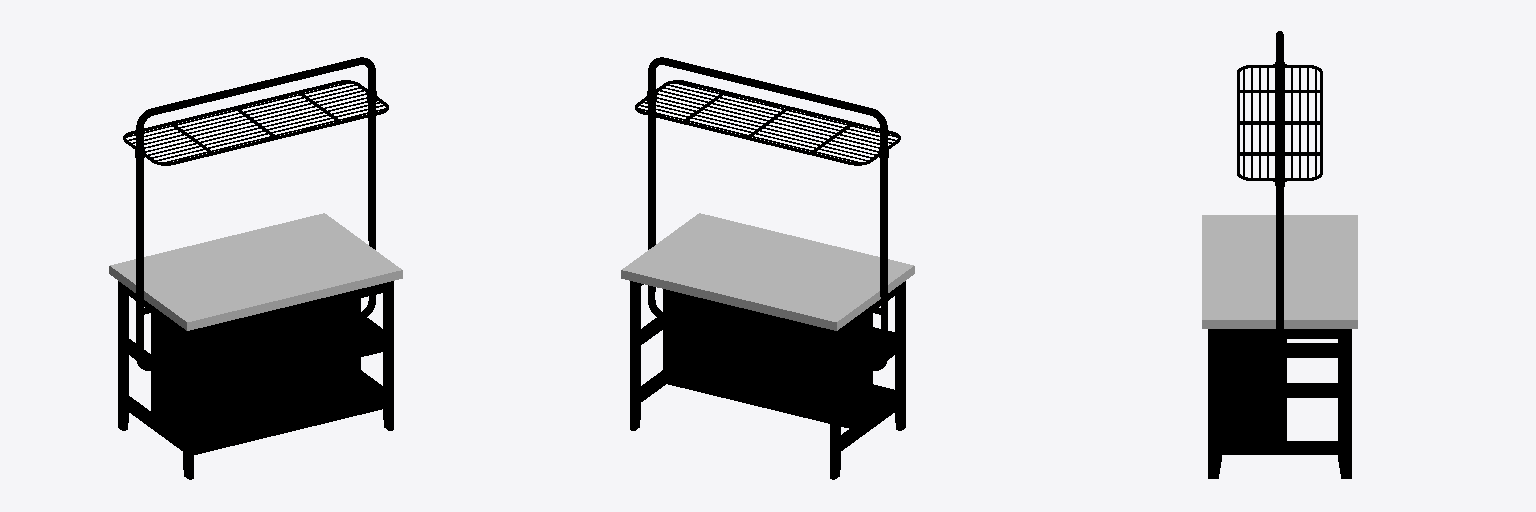
The model's file is ikeatable.obj.
3 views of the same model, side by side, from view 1: azimuth 30°, elevation 25°; view 2: azimuth 150°, elevation 25°; view 3: azimuth 270°, elevation 25° (orthographic).
Parts seen in each view (by area): view 1: TableIkea, TableIkea.001; view 2: TableIkea, TableIkea.001; view 3: TableIkea, TableIkea.001.
Part boxes in pixels (x1,y1,x2,y2): TableIkea: (118, 57, 393, 479); TableIkea.001: (109, 213, 402, 330); TableIkea: (630, 57, 905, 479); TableIkea.001: (621, 213, 914, 330); TableIkea: (1208, 31, 1351, 478); TableIkea.001: (1202, 215, 1357, 328).
Bounding box in the file's own units: 1.41 × 1.93 × 0.7886.